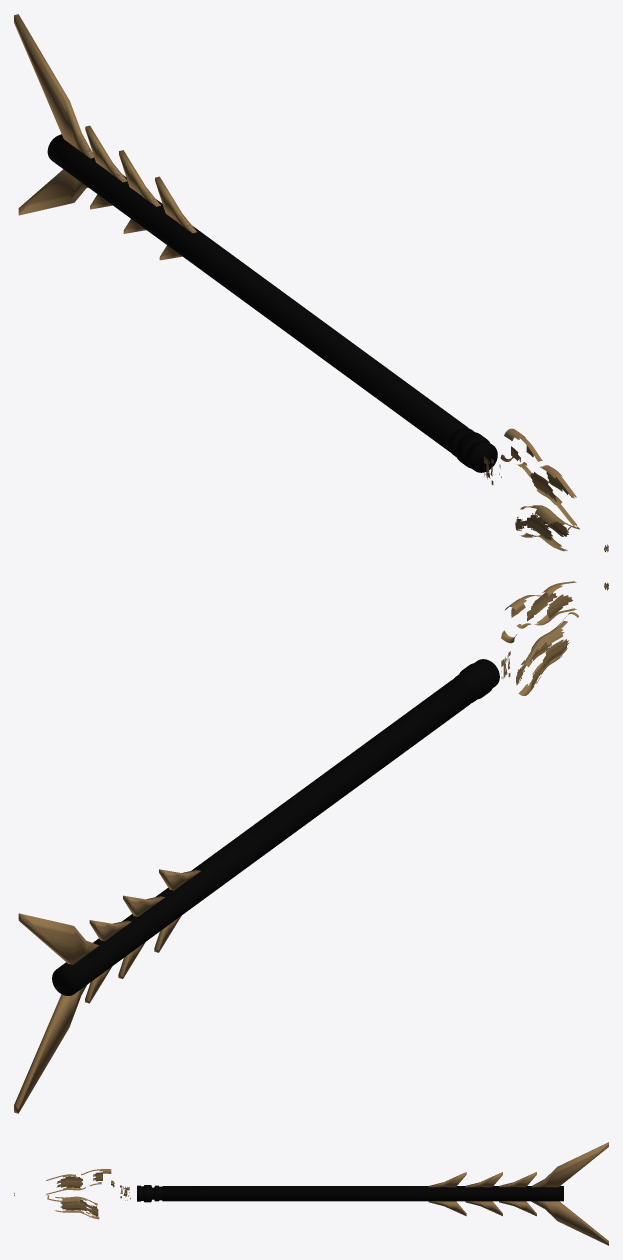
Rendered from Arrow_Earth.glb.
3 renders of one model, top to bottom at view 1: azimuth 30°, elevation 25°; view 2: azimuth 150°, elevation 25°; view 3: azimuth 270°, elevation 25°, orthographic. The views are drawn at different scales.
Parts seen in each view (by area): view 1: Arrow_Earth; view 2: Arrow_Earth; view 3: Arrow_Earth.
Boxes of the visible parts, bbox=[...] form: Arrow_Earth: bbox=[14, 14, 608, 552]; Arrow_Earth: bbox=[14, 581, 608, 1113]; Arrow_Earth: bbox=[14, 1142, 608, 1245].
Size of the model in its own units: 0.0231 by 0.1507 by 0.7998.
2 materials, 1 textured.
